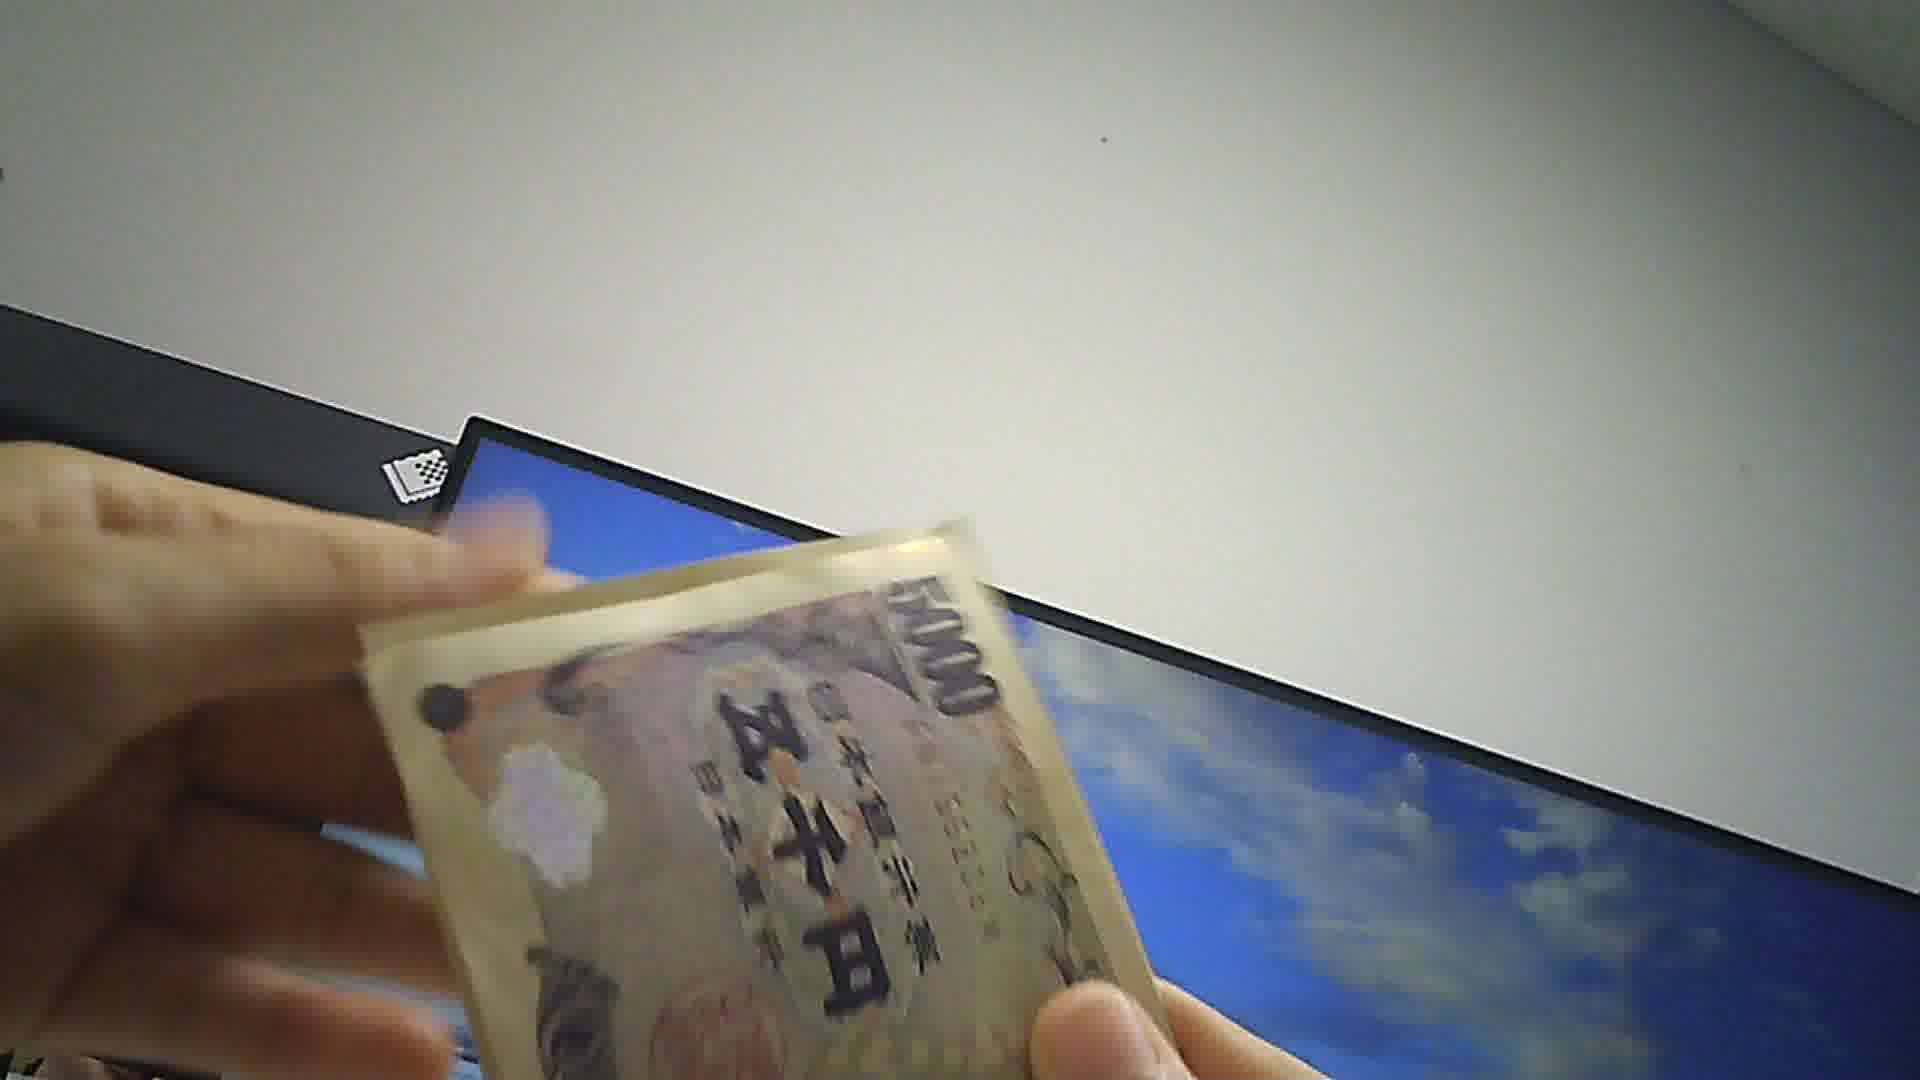5,000 Yen: (352, 497, 1211, 1064)
